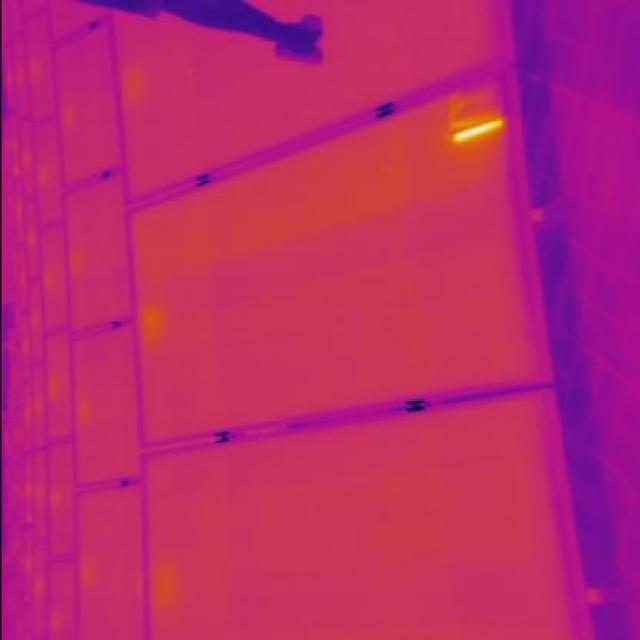hotspot: (444, 79, 504, 153)
